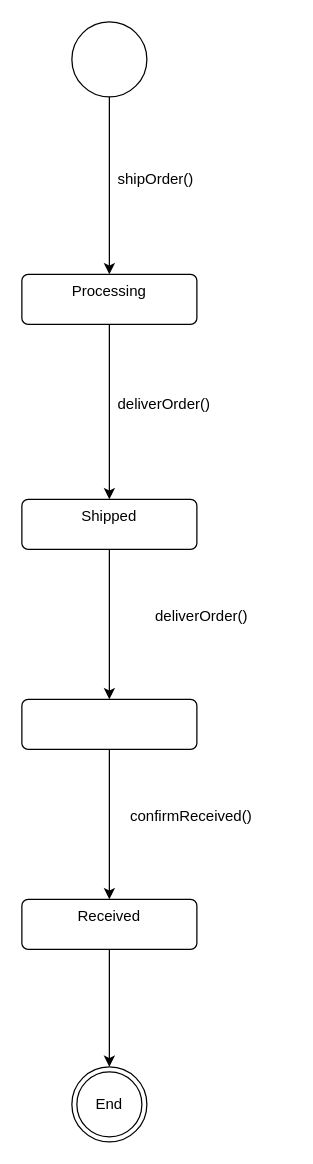
This 313x1164 diagram has some shape labels left out. Here are the shapes that lost their labels. From the top down, the box of each, then its label:
(71, 21, 147, 97): Start
(21, 698, 197, 749): Delivered
